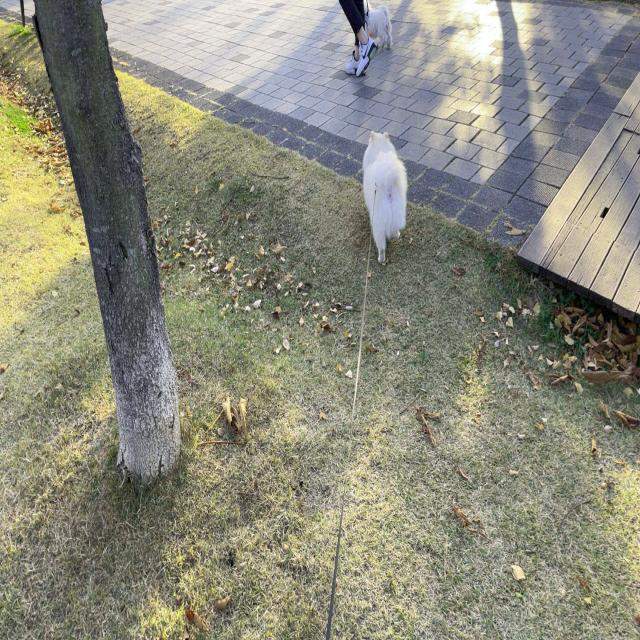Dog: (362, 130, 408, 262)
Leashed_Dog: (338, 0, 393, 49)
